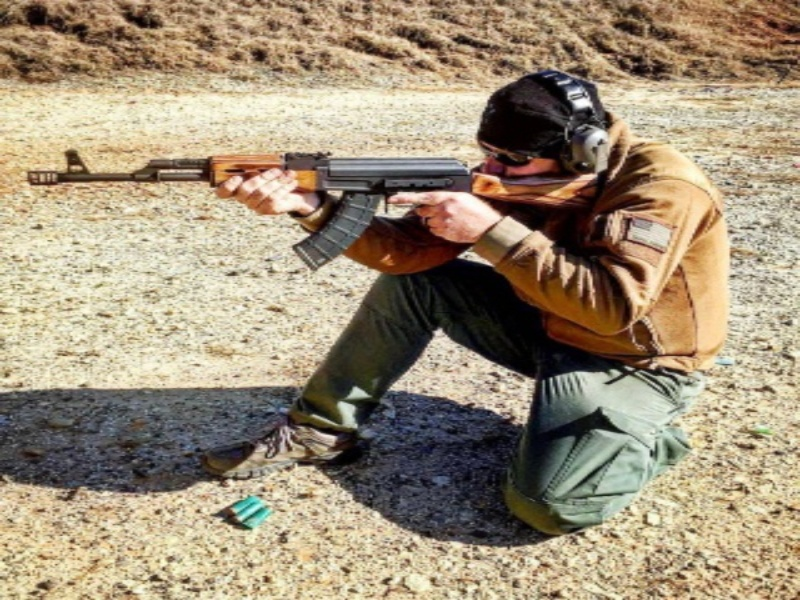person: (200, 69, 732, 534)
weapon: (26, 149, 600, 272)
